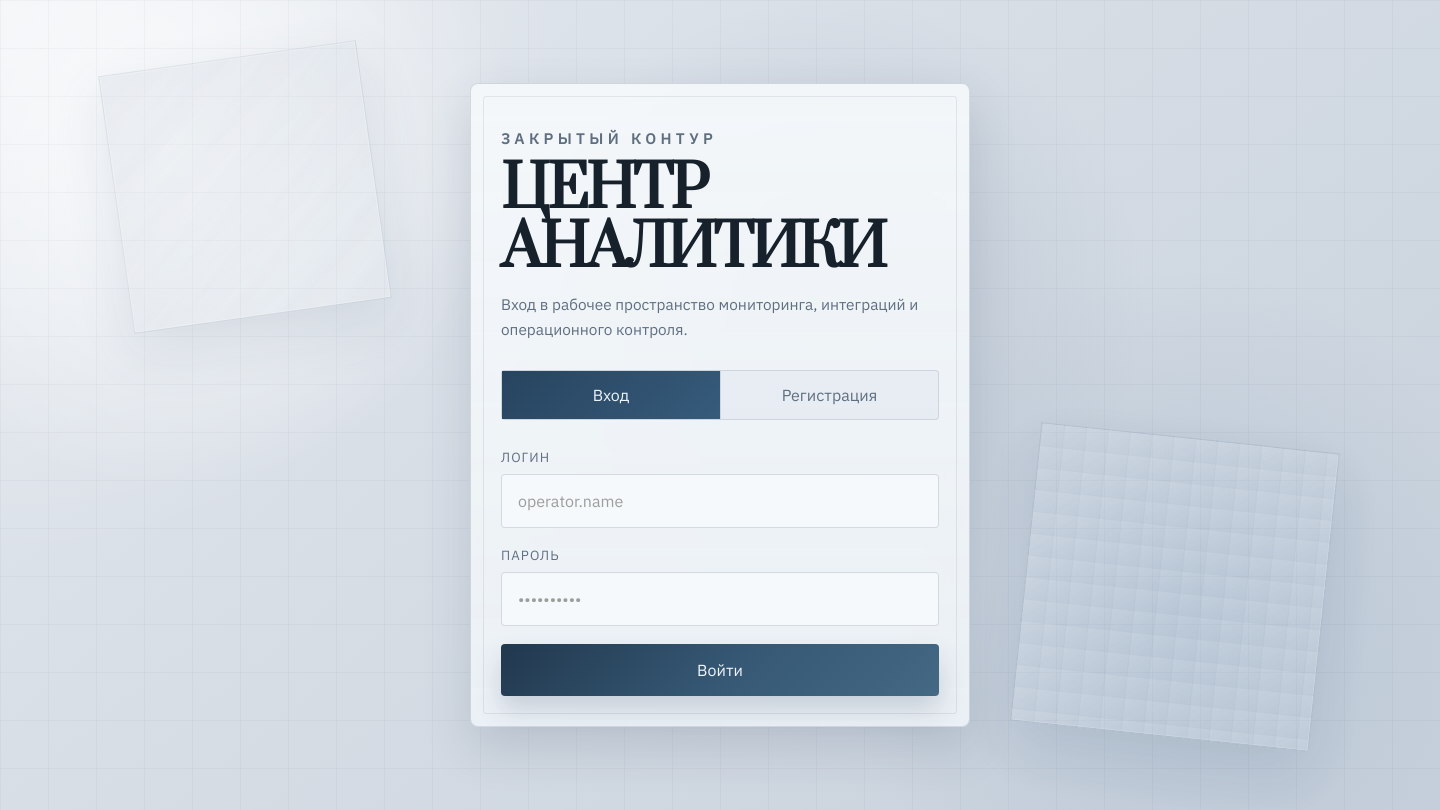
Test: AuthPage › renders backend auth errors in an alert region
Type "demo-user" into the field labelled "Логин" at (720, 501), box [501,474,939,528]
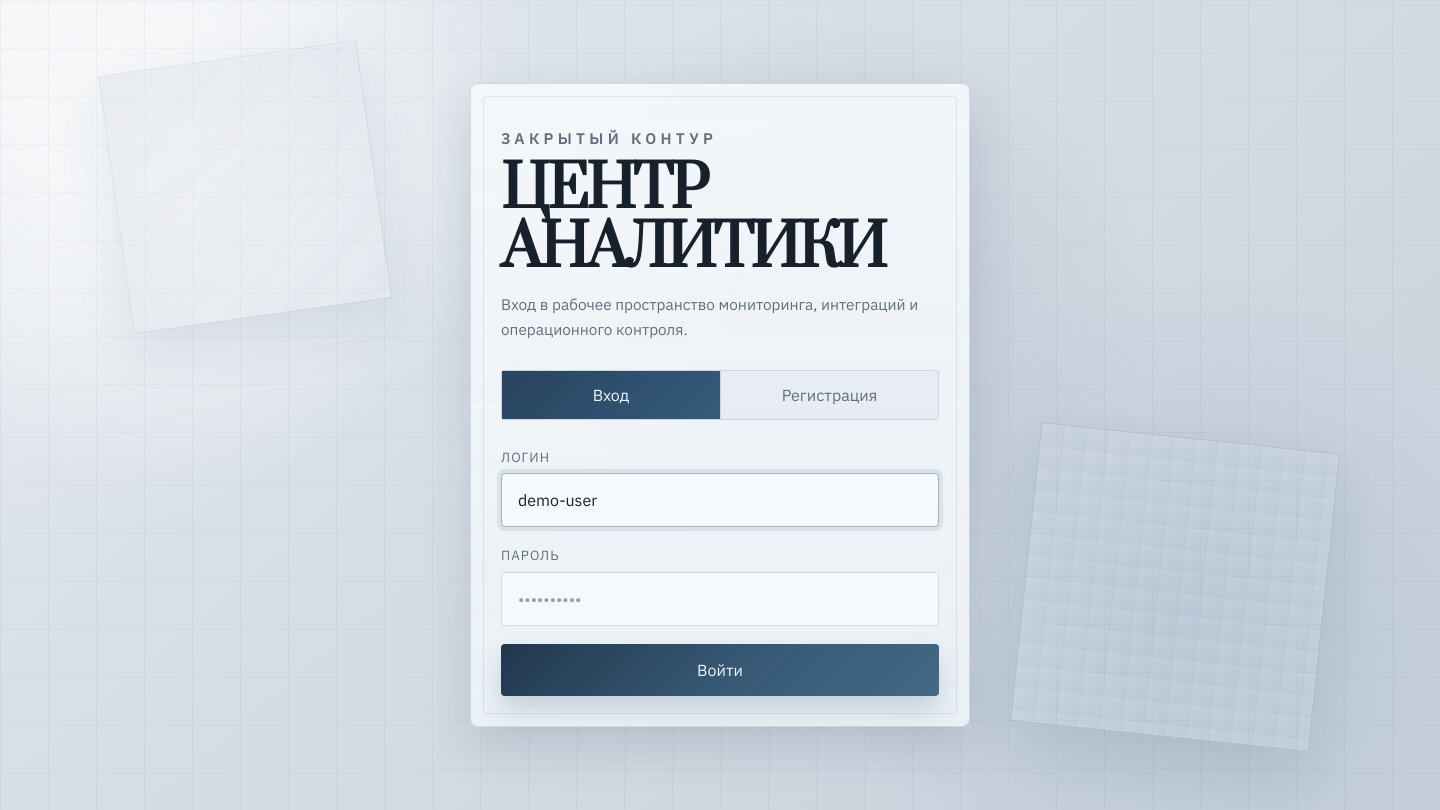
Type "password123" into the password field labelled "Пароль" at (720, 599), box [501,572,939,626]
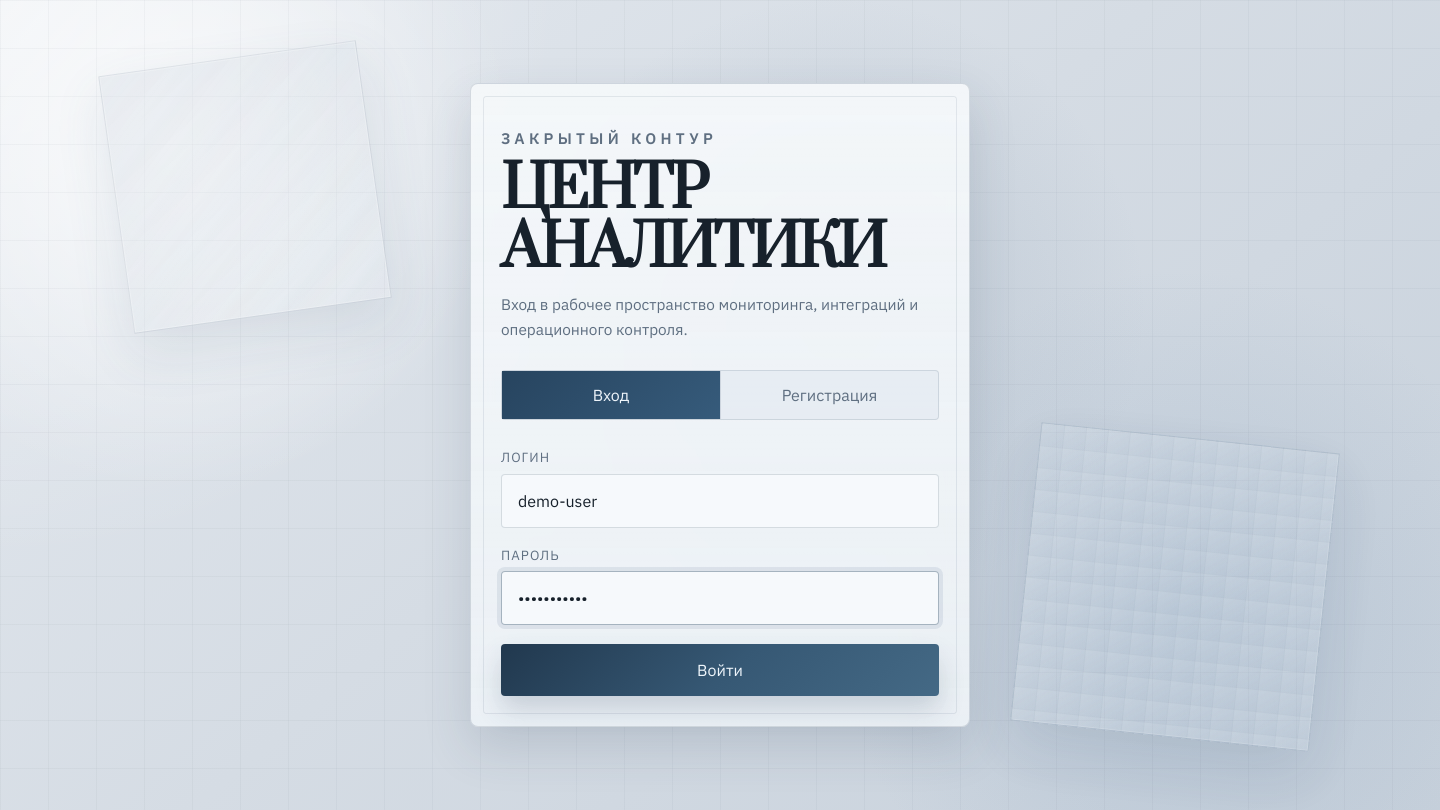
Click the button "Войти" at (720, 670), box [501,644,939,696]
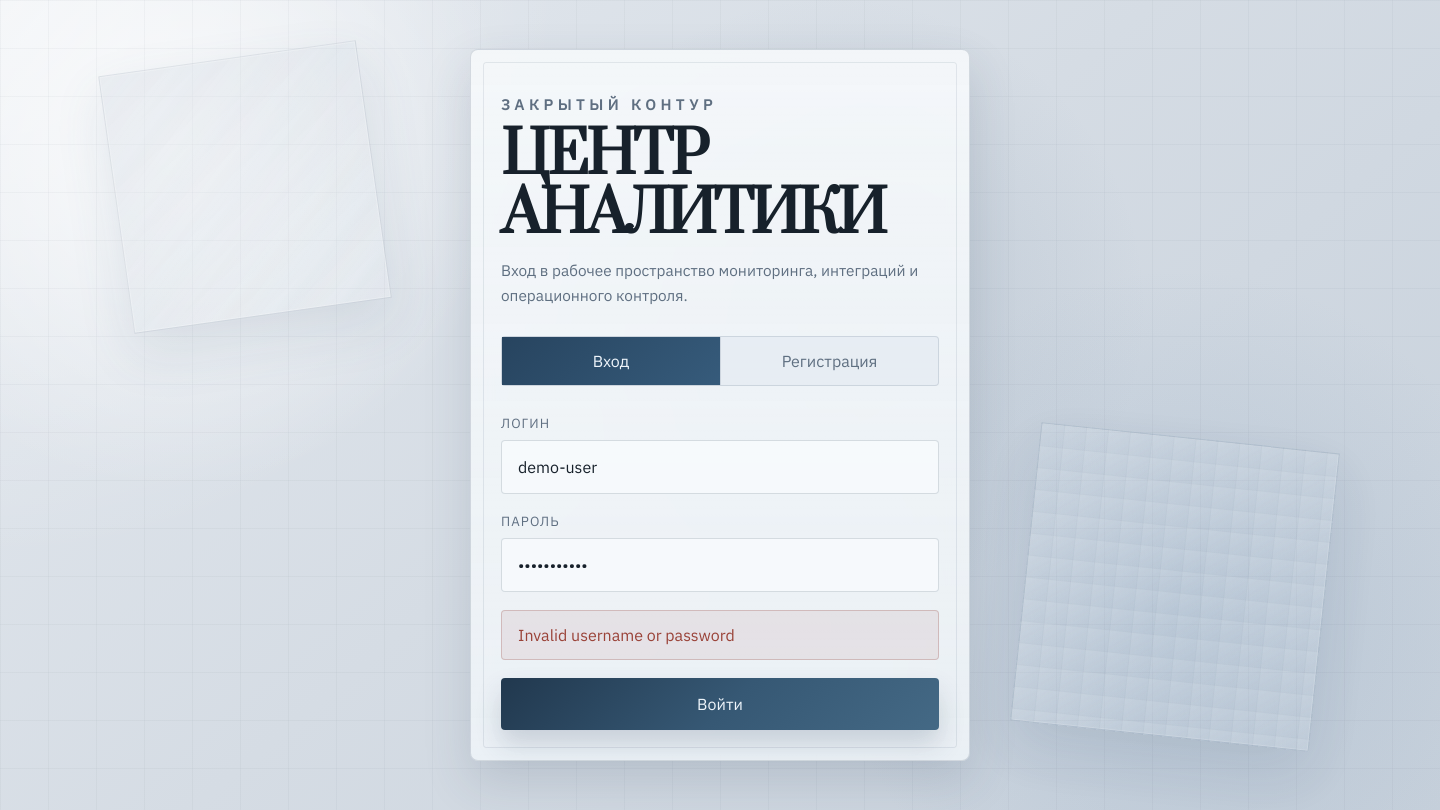
Now the message named "auth feedback" reads "Invalid username or password", box [518,625,735,645]
